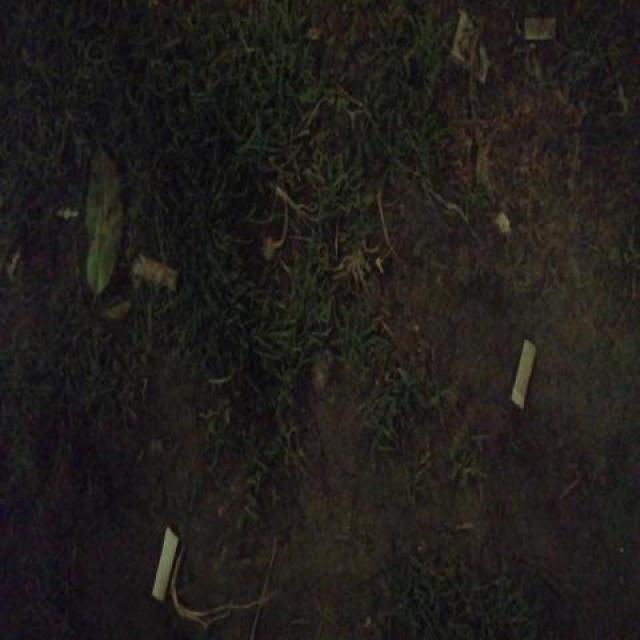non-organic waste: (126, 248, 182, 300), (149, 524, 183, 604), (508, 334, 541, 410)
